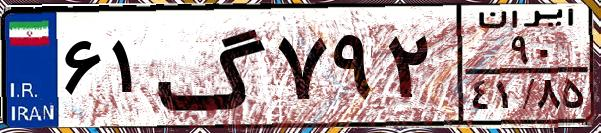0: (537, 27, 568, 80)
1: (110, 28, 156, 98), (495, 70, 520, 125)
2: (385, 28, 445, 110)
4: (470, 70, 495, 125)
5: (560, 70, 590, 125)
6: (57, 26, 110, 100)
7: (270, 28, 330, 110)
8: (535, 70, 560, 125)
9: (330, 28, 385, 110), (508, 27, 537, 80)
گ: (156, 12, 270, 120)
